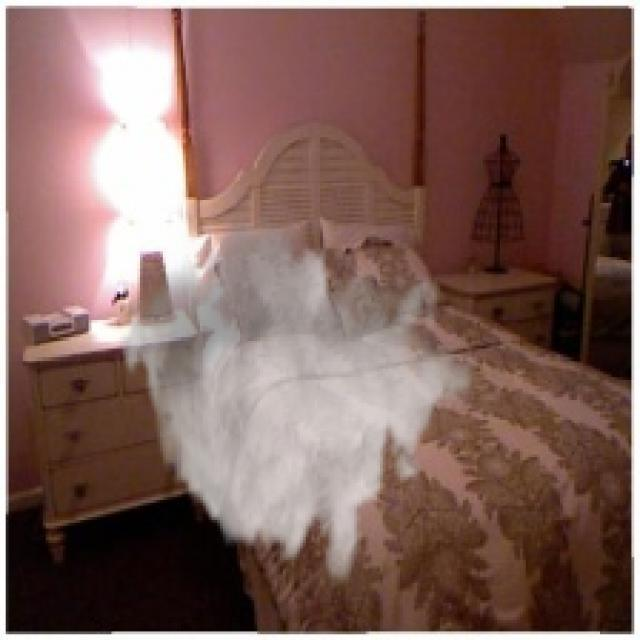Smoke: (117, 206, 474, 592)
